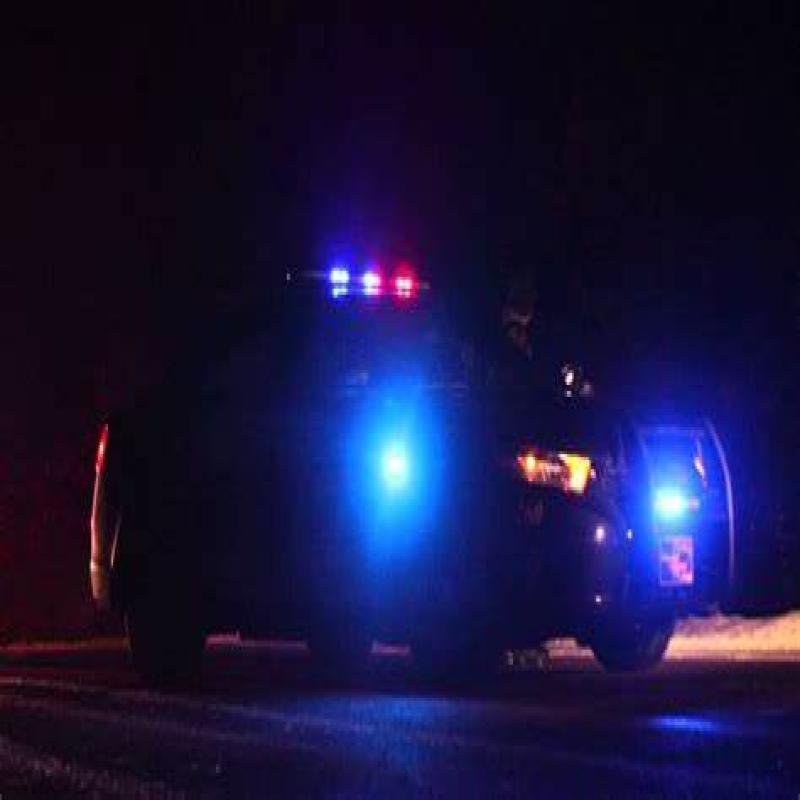AmbulanceSiren: (328, 250, 428, 308)
